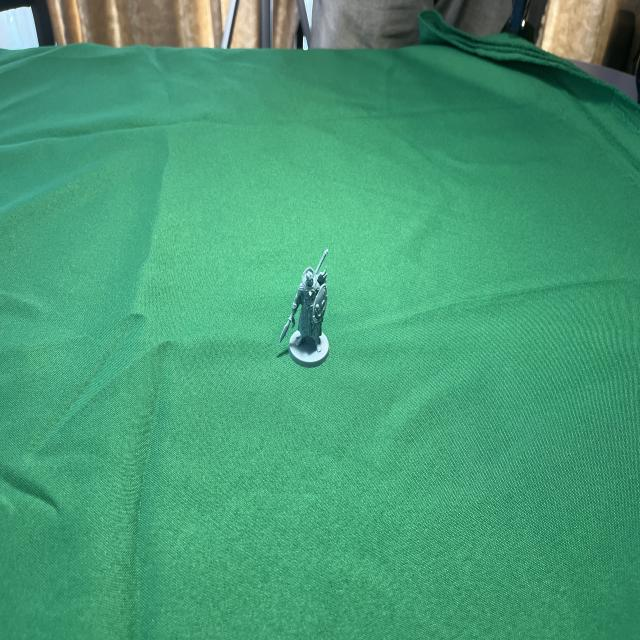isis_follower: (280, 260, 336, 368)
